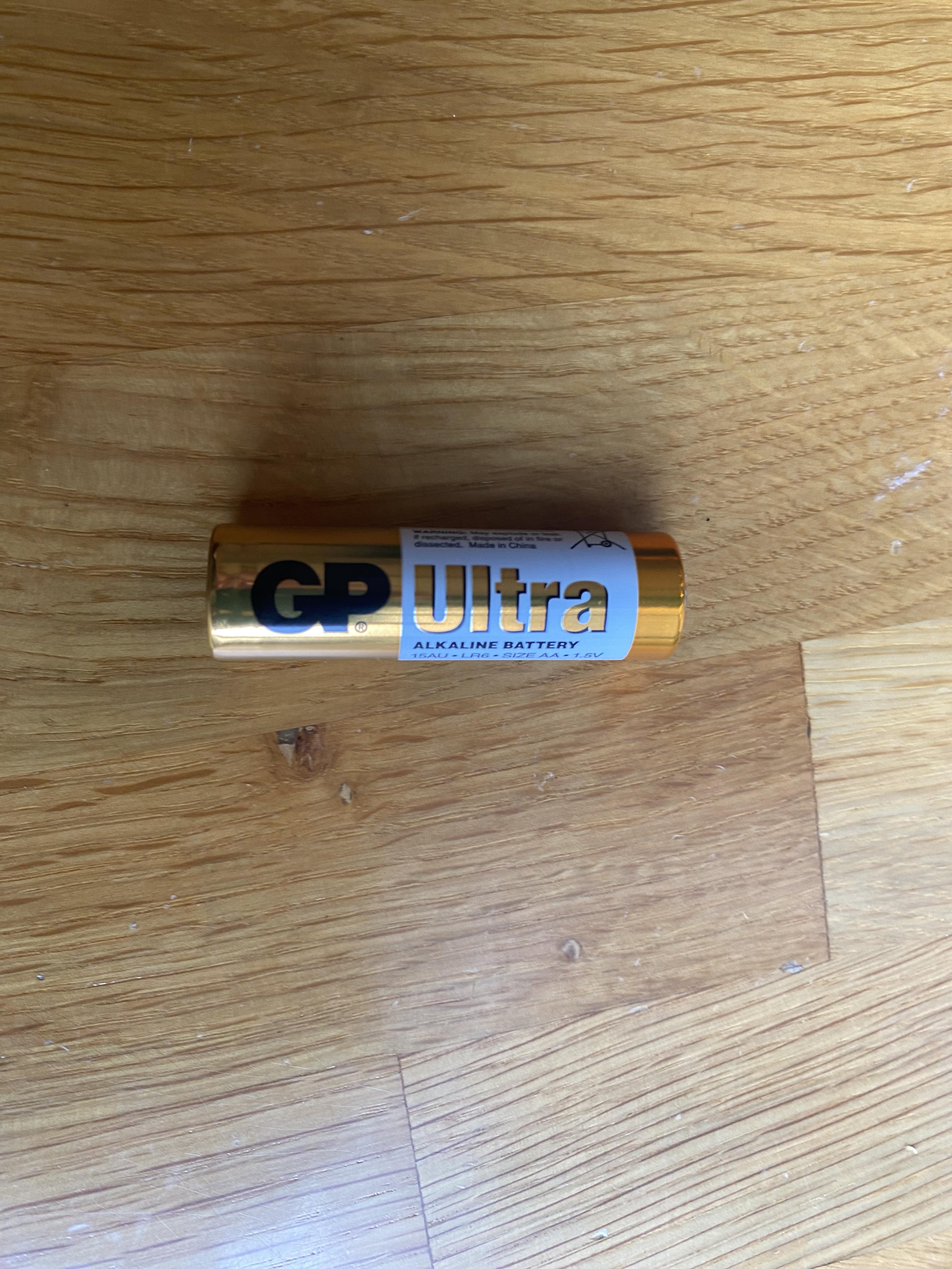AA: (205, 521, 686, 663)
